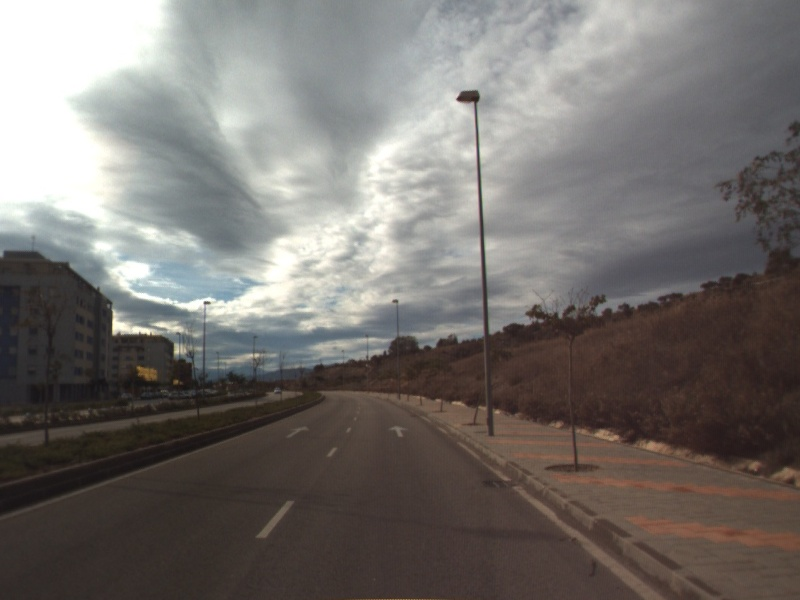STRAIGHT: (284, 424, 312, 440), (386, 423, 411, 439)
